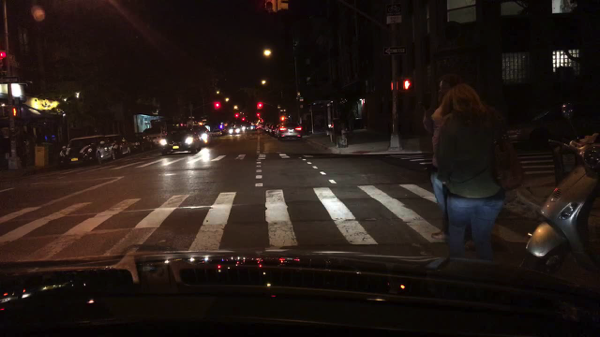car: (507, 103, 599, 143), (55, 134, 115, 168), (156, 128, 200, 155), (124, 132, 153, 154), (107, 133, 130, 157), (142, 128, 167, 148), (275, 123, 303, 140), (189, 125, 210, 147), (271, 123, 284, 139), (228, 127, 242, 136), (265, 124, 274, 136), (261, 124, 273, 133), (212, 129, 222, 137), (219, 128, 228, 136), (249, 124, 258, 132)
motor: (518, 101, 599, 283)
person: (432, 81, 516, 259), (420, 75, 489, 249)
traffic light: (276, 1, 291, 12), (399, 80, 412, 91), (265, 2, 276, 15), (1, 51, 6, 74), (387, 81, 397, 91), (14, 105, 17, 118), (214, 101, 218, 108), (259, 102, 262, 108), (235, 112, 238, 118)
traffic sign: (385, 3, 401, 24), (381, 46, 407, 55), (8, 61, 24, 70), (292, 96, 305, 105), (1, 76, 20, 82), (7, 56, 17, 60), (296, 90, 300, 97)
